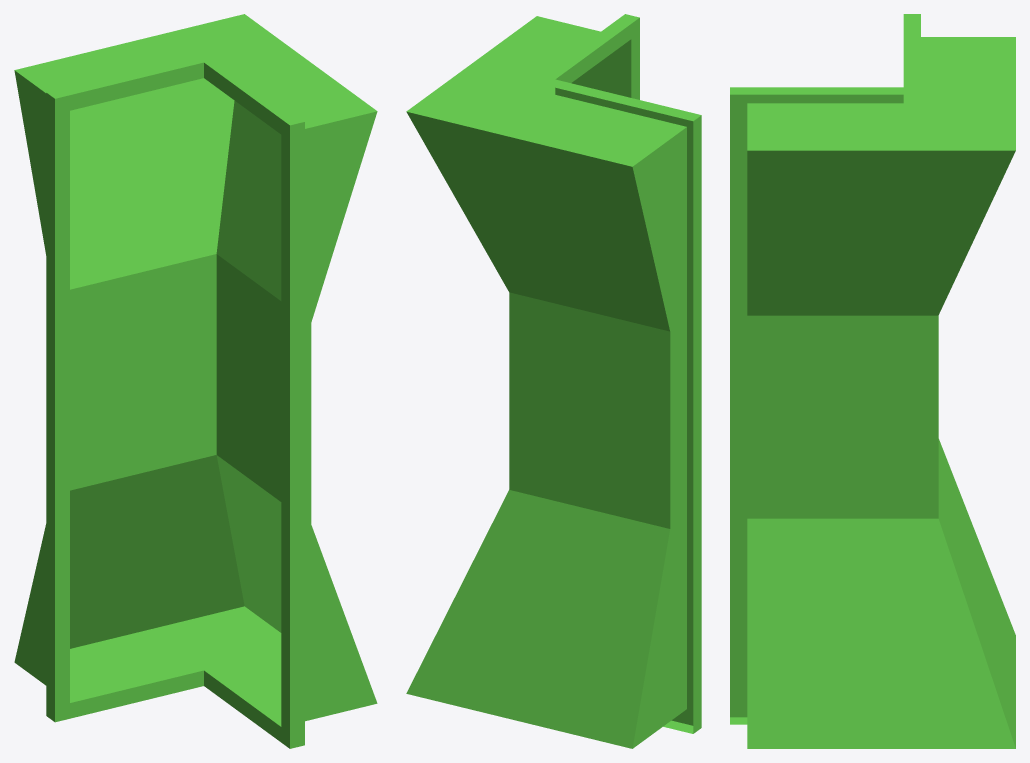
The model's file is Wall_B_Turn_In.FBX.
3 views of the same model, side by side, from view 1: azimuth 30°, elevation 25°; view 2: azimuth 150°, elevation 25°; view 3: azimuth 270°, elevation 25° (orthographic). The views are drawn at different scales.
Visible parts, largest first — view 1: Wall_B_Turn_In; view 2: Wall_B_Turn_In; view 3: Wall_B_Turn_In.
Part boxes in pixels (x1,y1,x2,y2): Wall_B_Turn_In: [14, 14, 377, 748]; Wall_B_Turn_In: [406, 14, 701, 748]; Wall_B_Turn_In: [730, 14, 1015, 748].
Bounding box in the file's own units: 165 × 400 × 165.
